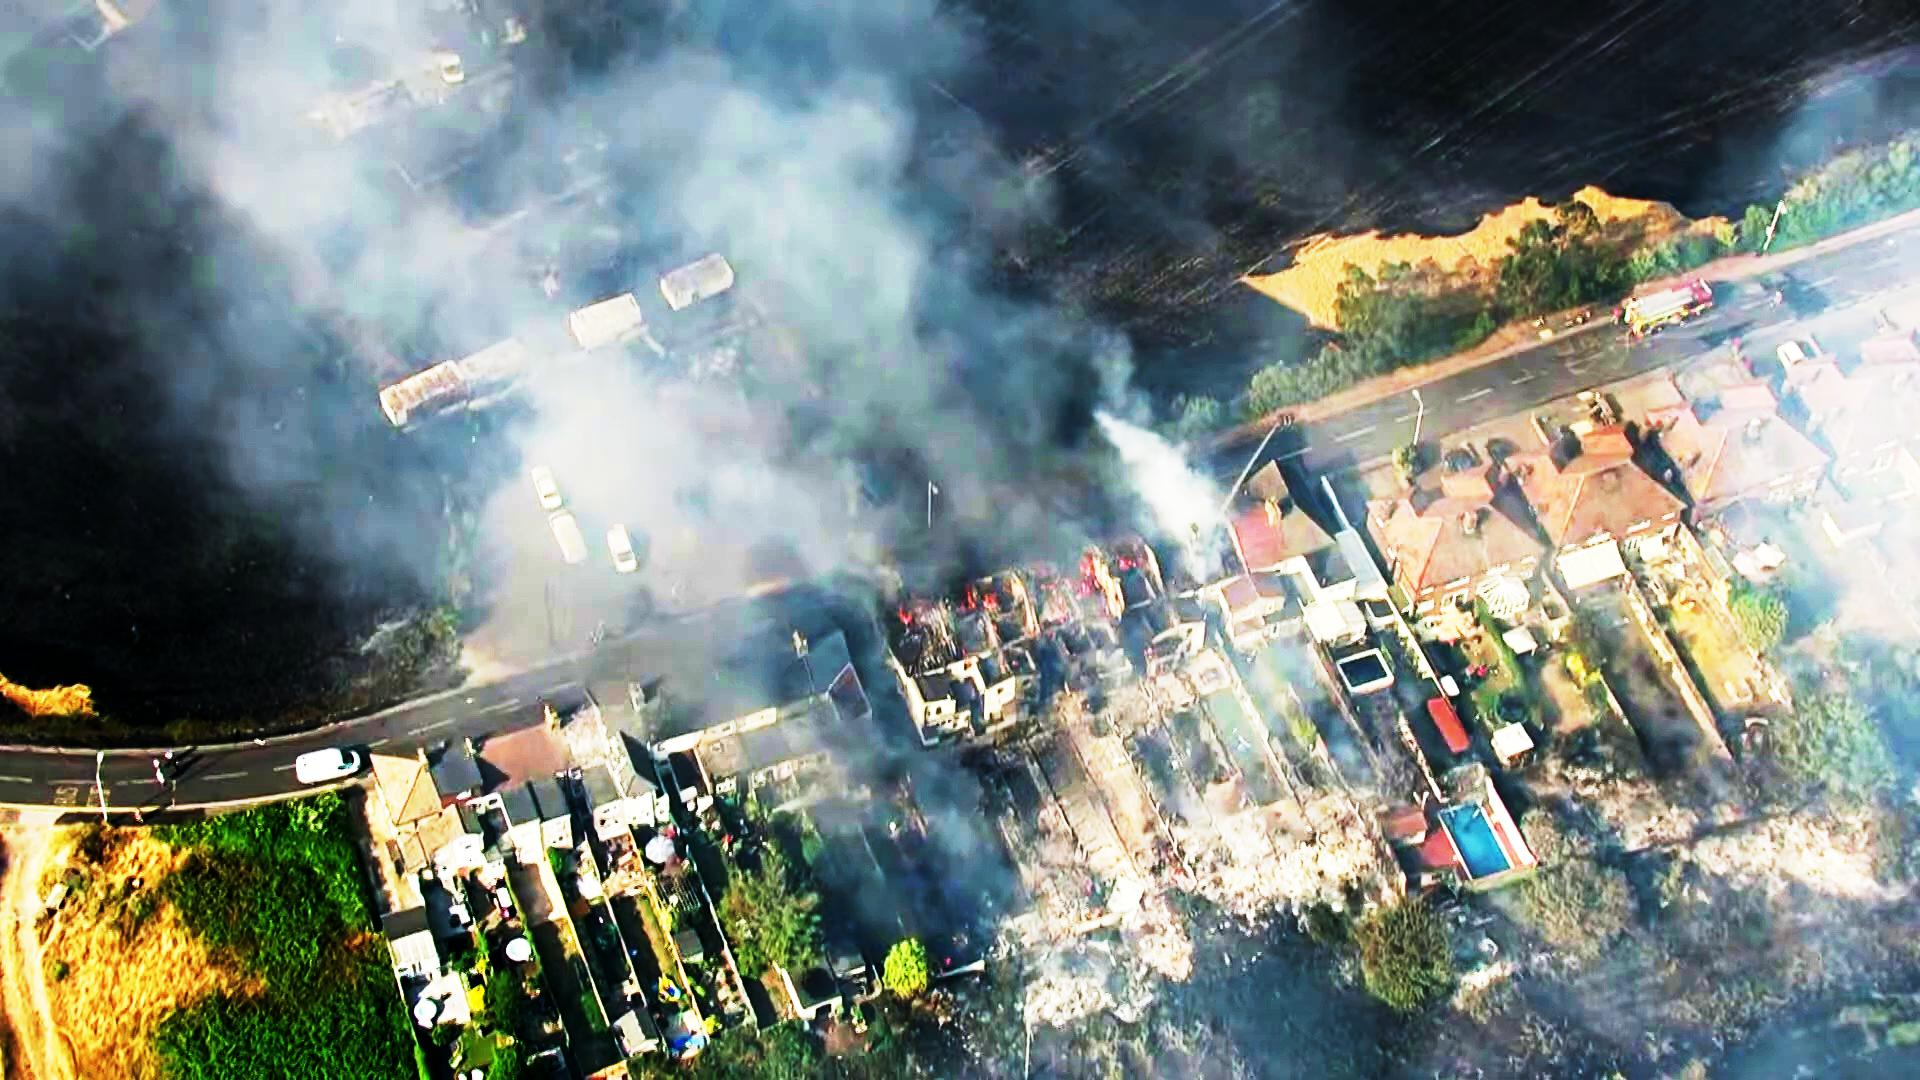smoke: (632, 208, 1040, 533)
